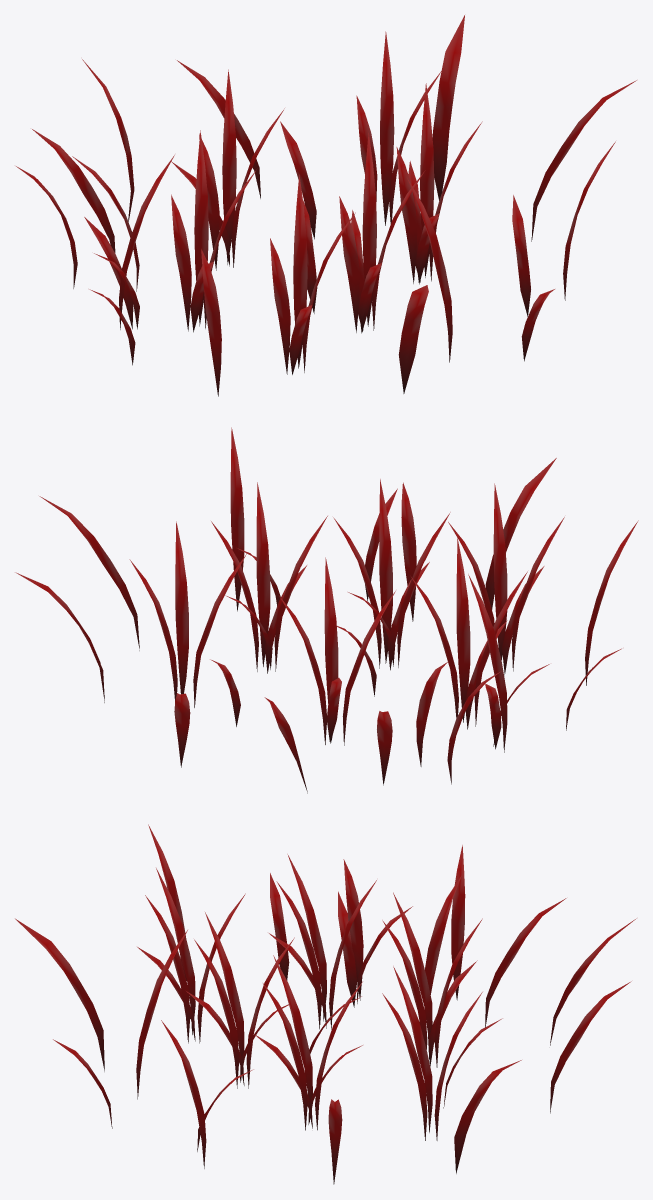
The model's file is Gras.fbx.
The picture shows the model from 3 angles, top to bottom: view 1: azimuth 30°, elevation 25°; view 2: azimuth 150°, elevation 25°; view 3: azimuth 270°, elevation 25°; orthographic projection. The views are drawn at different scales.
Visible parts, largest first — view 1: Grass; view 2: Grass; view 3: Grass.
Boxes of the visible parts, bbox=[...] form: Grass: bbox=[16, 15, 636, 396]; Grass: bbox=[15, 427, 638, 793]; Grass: bbox=[15, 824, 636, 1184].
Bounding box in the file's own units: 3.72 × 1.07 × 3.62.
